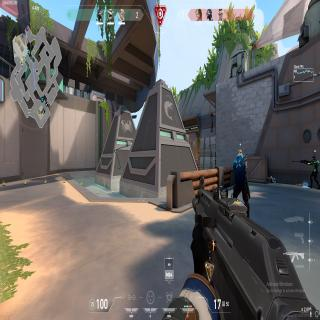ENEMY-BODY: (195, 156, 198, 166)
ENEMY-HEAD: (196, 157, 197, 159)
